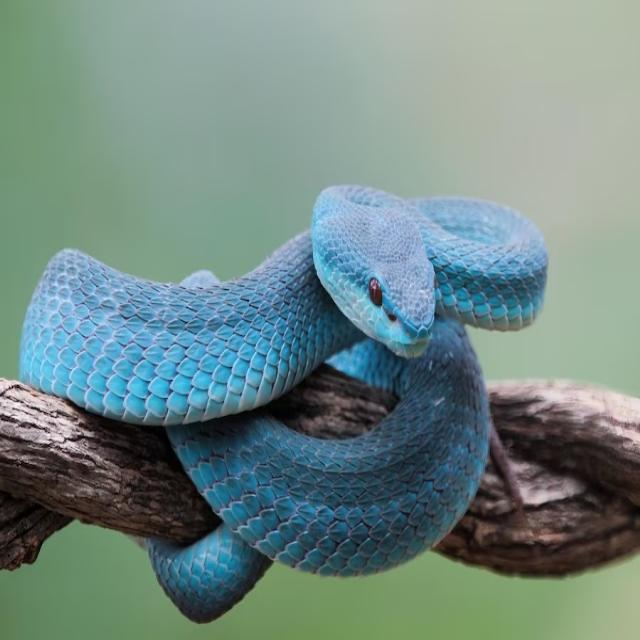Snake: (11, 161, 576, 634)
